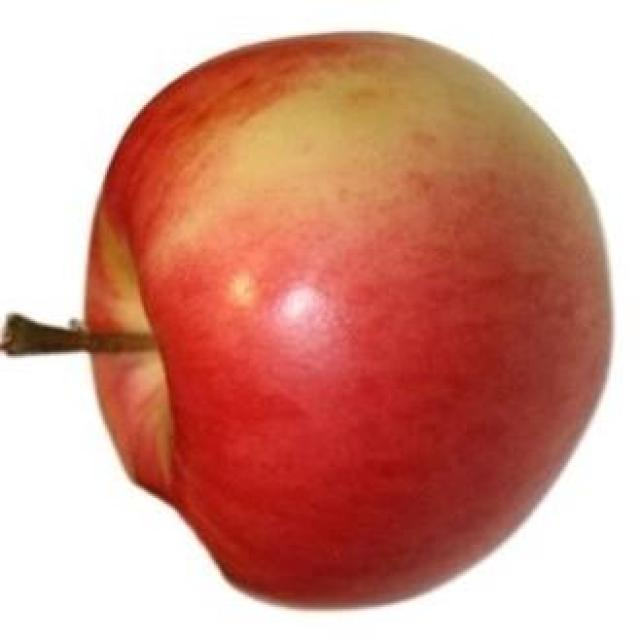Rotten Apple: (81, 27, 614, 607)
